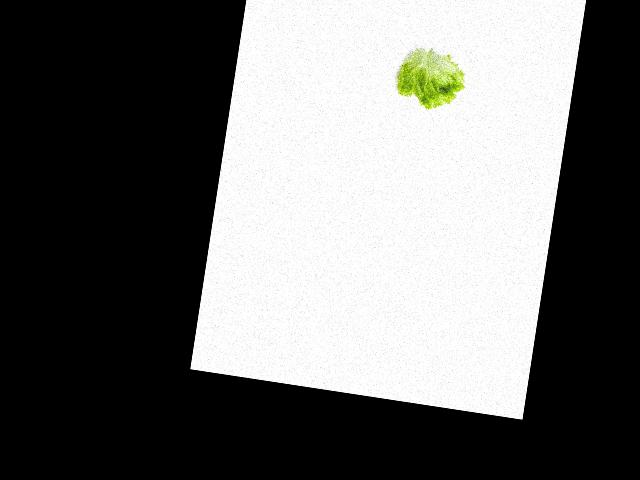lettuce: (388, 41, 471, 111)
